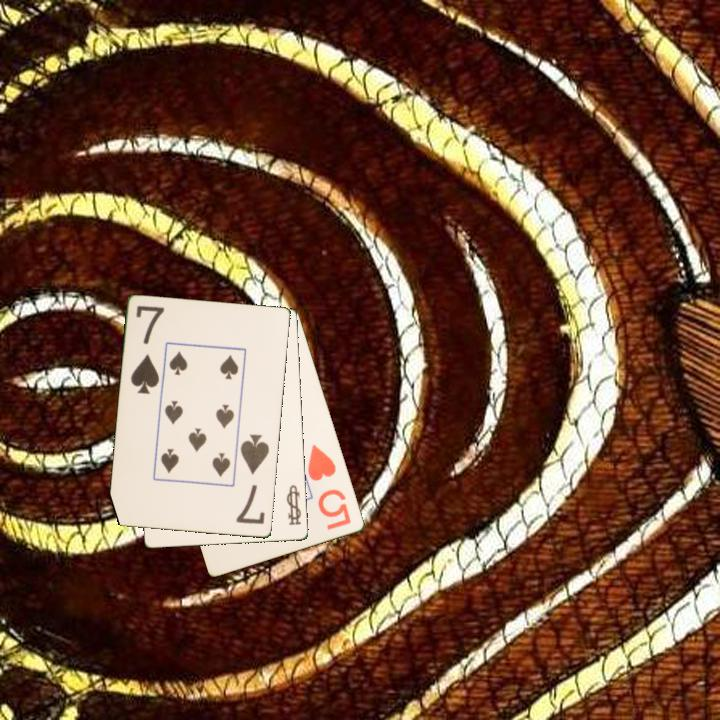5h: (304, 441, 354, 533)
7s: (233, 431, 273, 527), (127, 302, 167, 398)
JK: (283, 482, 304, 528)
